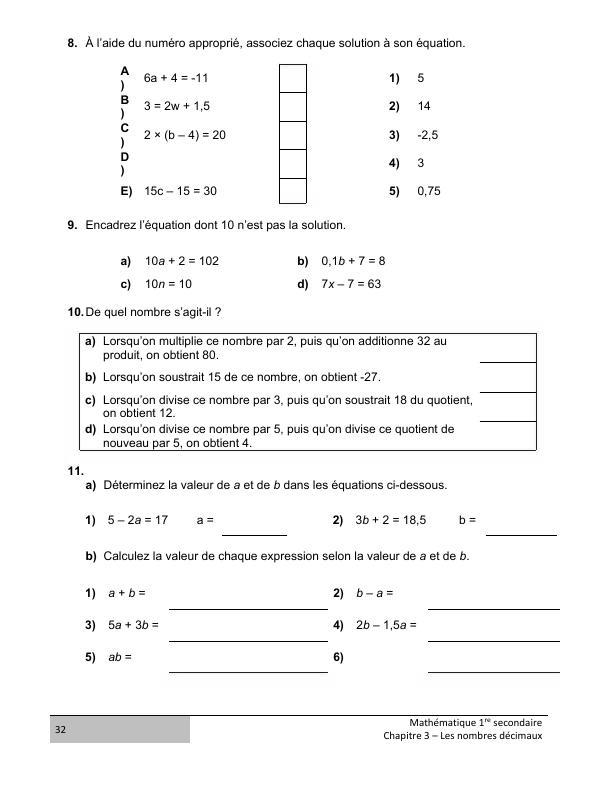check_box: (271, 60, 313, 209)
input: (166, 592, 328, 614), (167, 626, 331, 644), (426, 591, 561, 612), (167, 657, 331, 674), (426, 657, 563, 677), (426, 627, 564, 646), (484, 512, 557, 541), (220, 511, 290, 539), (475, 377, 535, 398), (477, 343, 534, 365), (477, 407, 535, 426)
text: (114, 62, 240, 202), (82, 389, 475, 418), (83, 334, 451, 361), (83, 421, 458, 447), (386, 69, 452, 201), (64, 33, 468, 52), (82, 478, 450, 495), (84, 546, 471, 561), (64, 217, 348, 235), (83, 368, 386, 384), (64, 302, 226, 320), (326, 508, 428, 529), (116, 251, 222, 268), (294, 274, 388, 293), (293, 253, 392, 270), (330, 616, 416, 635), (83, 511, 171, 529), (116, 275, 197, 293), (79, 615, 160, 633), (330, 581, 395, 603), (81, 645, 136, 666), (83, 585, 148, 602), (195, 514, 216, 530), (457, 514, 478, 526)
